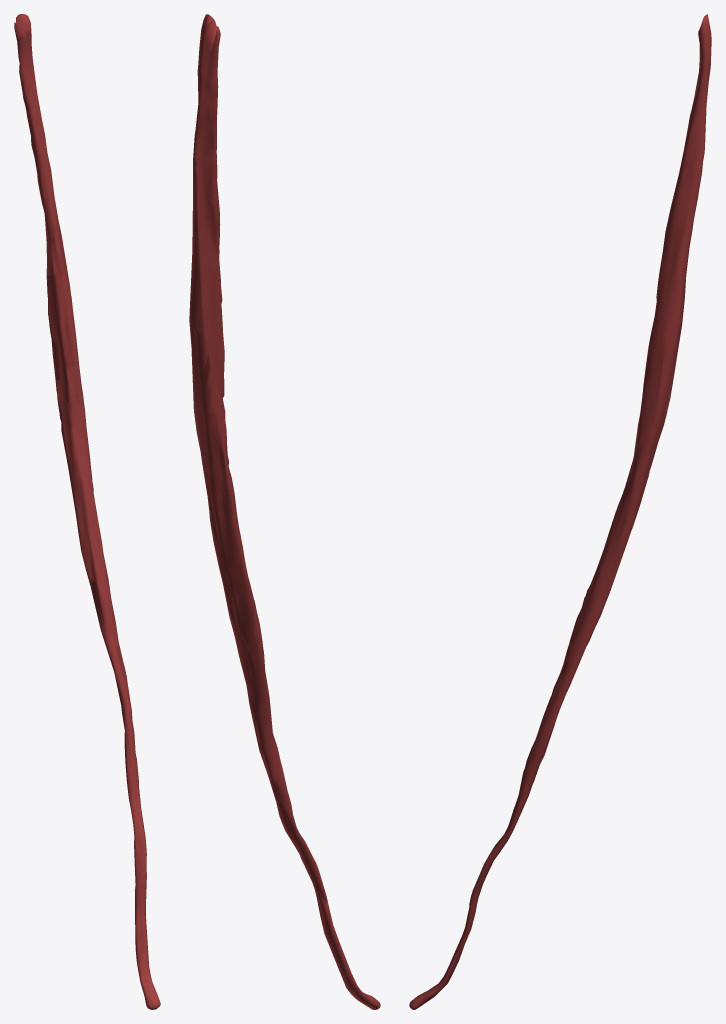
Rendered from extensor-digiti-minimi-l.glb.
3 renders of one model, left to right at view 1: azimuth 30°, elevation 25°; view 2: azimuth 150°, elevation 25°; view 3: azimuth 270°, elevation 25°, orthographic. The views are drawn at different scales.
Visible parts, largest first — view 1: Extensor digiti minimi.l; view 2: Extensor digiti minimi.l; view 3: Extensor digiti minimi.l.
Boxes of the visible parts, bbox=[...] form: Extensor digiti minimi.l: bbox=[14, 14, 160, 1009]; Extensor digiti minimi.l: bbox=[189, 14, 380, 1009]; Extensor digiti minimi.l: bbox=[409, 14, 711, 1009].
Bounding box in the file's own units: 0.0168 × 0.3359 × 0.0926.
